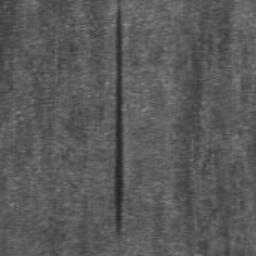Scratches: (114, 0, 122, 232)
